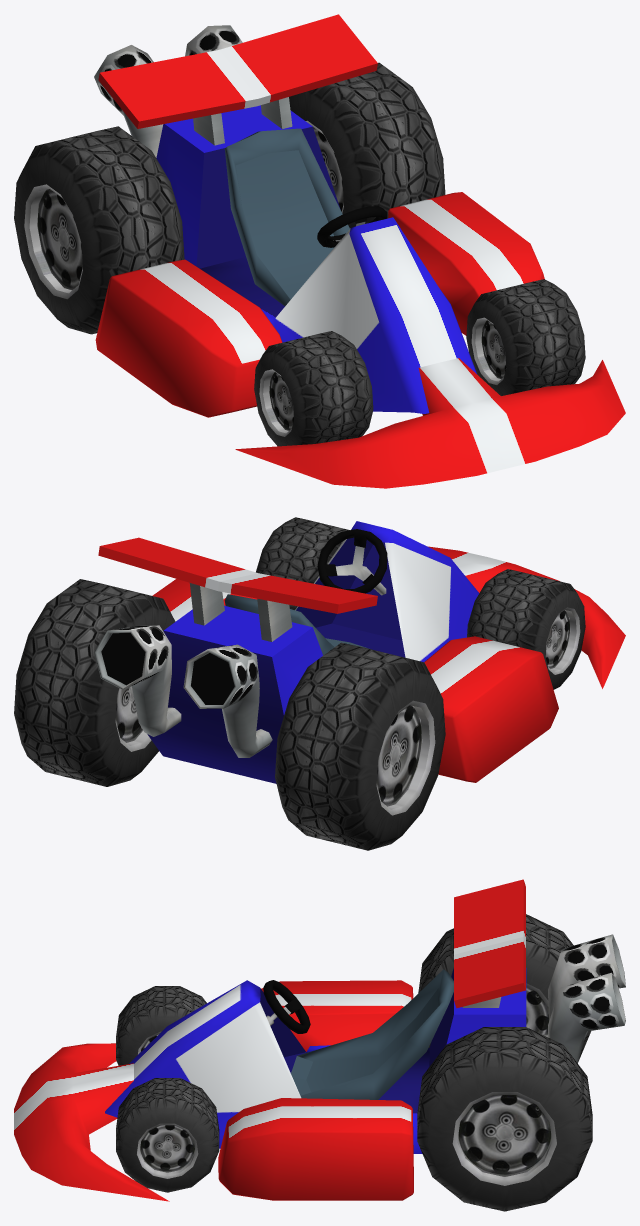
The model's file is Kart.FBX.
The picture shows the model from 3 angles, top to bottom: view 1: azimuth 30°, elevation 25°; view 2: azimuth 150°, elevation 25°; view 3: azimuth 270°, elevation 25°; orthographic projection. The views are drawn at different scales.
Parts seen in each view (by area): view 1: Body, WheelRR, WheelRL, WheelFR, WheelFL, Volant; view 2: Body, WheelRR, WheelRL, WheelFR, WheelFL, Volant; view 3: Body, WheelRL, WheelFL, WheelRR, WheelFR, Volant.
Boxes of the visible parts, box(x1,y1,x2,y2) form: Body: box(94, 14, 625, 488); WheelRR: box(14, 126, 184, 334); WheelRL: box(289, 62, 445, 228); WheelFR: box(254, 331, 373, 446); WheelFL: box(466, 279, 585, 395); Volant: box(317, 206, 387, 247); Body: box(94, 521, 625, 783); WheelRR: box(275, 642, 445, 850); WheelRL: box(14, 579, 175, 786); WheelFR: box(467, 569, 585, 689); WheelFL: box(256, 517, 349, 609); Volant: box(317, 529, 387, 595); Body: box(14, 879, 625, 1201); WheelRL: box(417, 1027, 592, 1211); WheelFL: box(116, 1078, 219, 1192); WheelRR: box(418, 914, 591, 1061); WheelFR: box(116, 986, 206, 1065); Volant: box(263, 980, 310, 1033).
Bounding box in the file's own units: 631 × 376 × 991.
